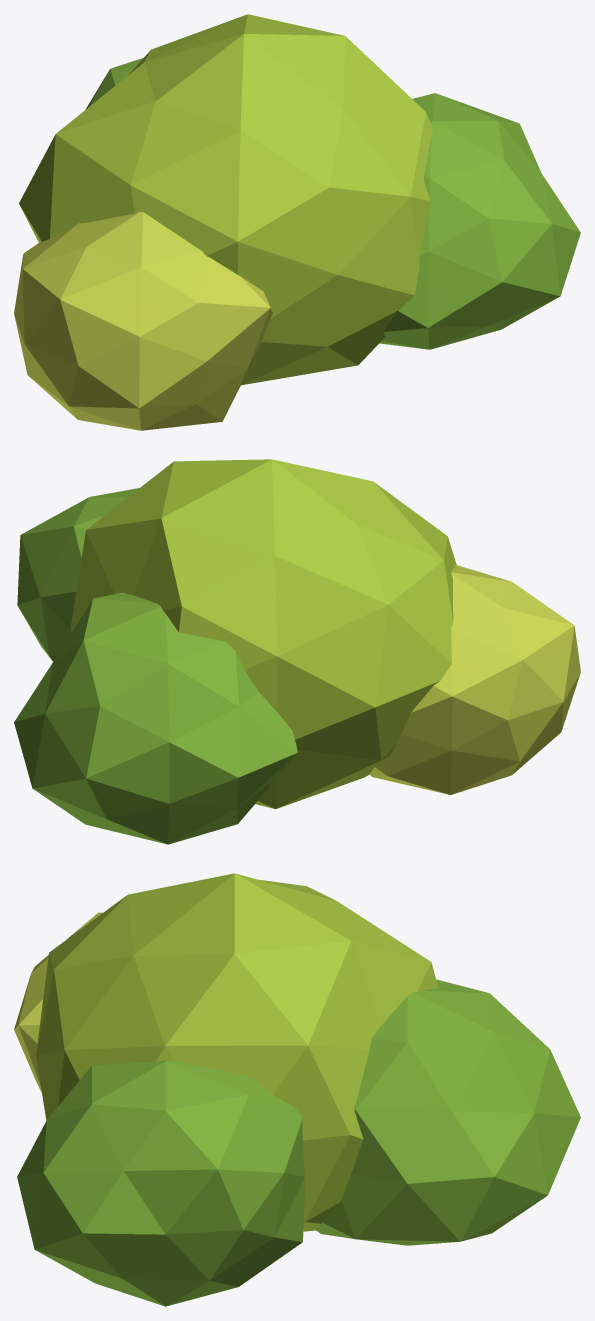
Rendered from prop-bush.glb.
3 views of the same model, one above another, from view 1: azimuth 30°, elevation 25°; view 2: azimuth 150°, elevation 25°; view 3: azimuth 270°, elevation 25° (orthographic). The views are drawn at different scales.
Visible parts, largest first — view 1: Bush; view 2: Bush; view 3: Bush.
Part boxes in pixels (x1,y1,x2,y2): Bush: [14, 14, 580, 430]; Bush: [14, 459, 580, 844]; Bush: [14, 873, 580, 1306].
Bounding box in the file's own units: 1.87 × 1.03 × 1.64.
